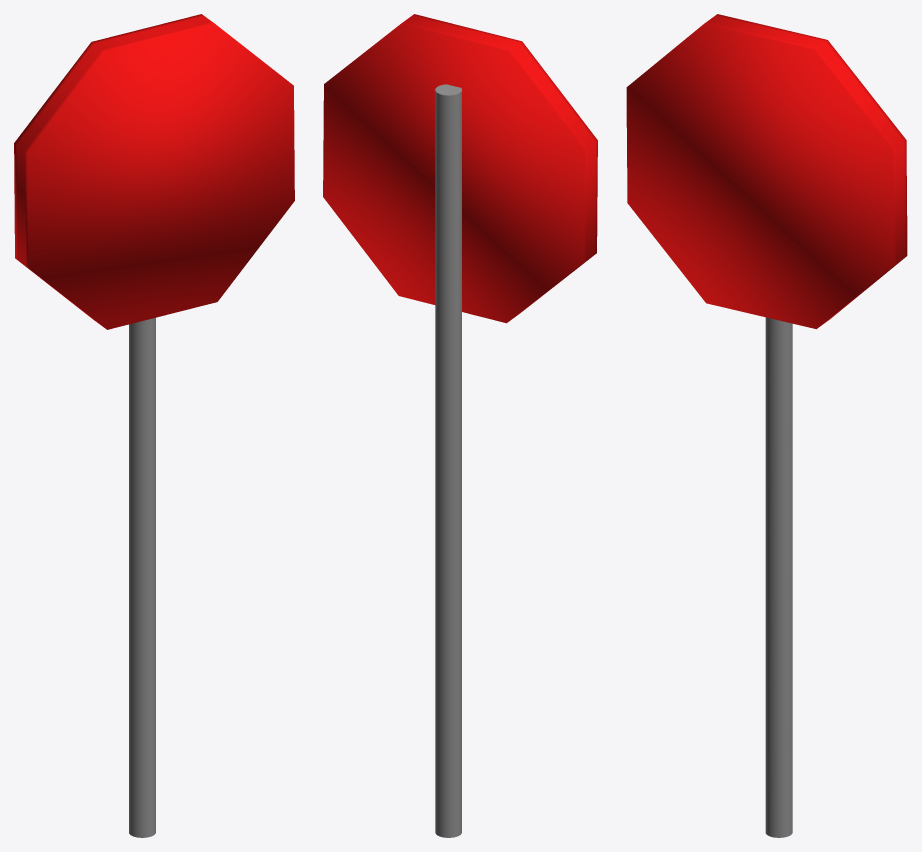
Rendered from stopsign_Spencer.FBX.
3 views of the same model, side by side, from view 1: azimuth 30°, elevation 25°; view 2: azimuth 150°, elevation 25°; view 3: azimuth 330°, elevation 25° (orthographic). The views are drawn at different scales.
Visible parts, largest first — view 1: Stop Sign; view 2: Stop Sign; view 3: Stop Sign.
Part boxes in pixels (box(x1,y1,x2,y2)): Stop Sign: box(14, 14, 294, 837); Stop Sign: box(323, 14, 597, 837); Stop Sign: box(626, 14, 907, 837).
Bounding box in the file's own units: 35.31 × 102 × 5.87.
